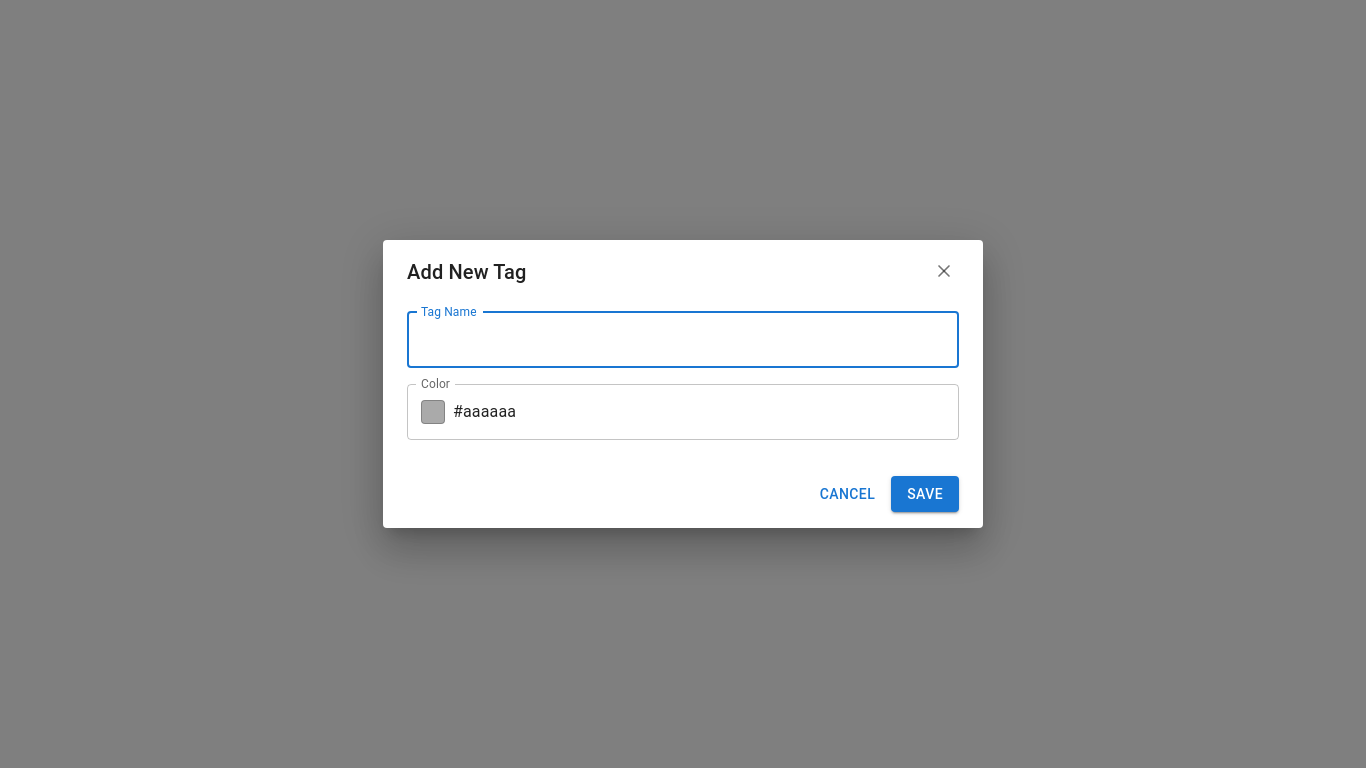
TagFormDialog › hides the name message once a name is typed
This screenshot has width=1366, height=768.
Click the button "Save".
click(925, 494)  # box [891, 476, 959, 512]
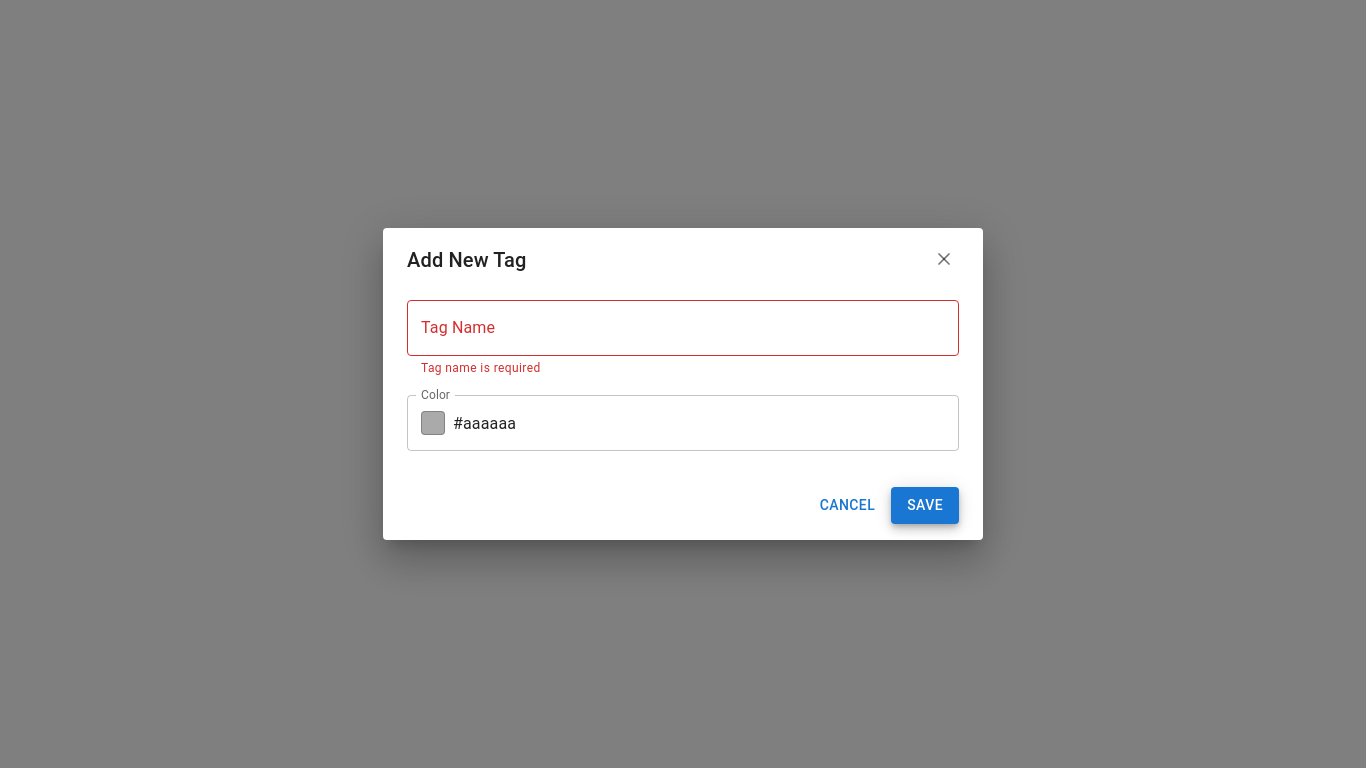
Type "Spicy" into the field labelled "Tag Name".
click(683, 328); type("Spicy")  # box [407, 300, 959, 356]
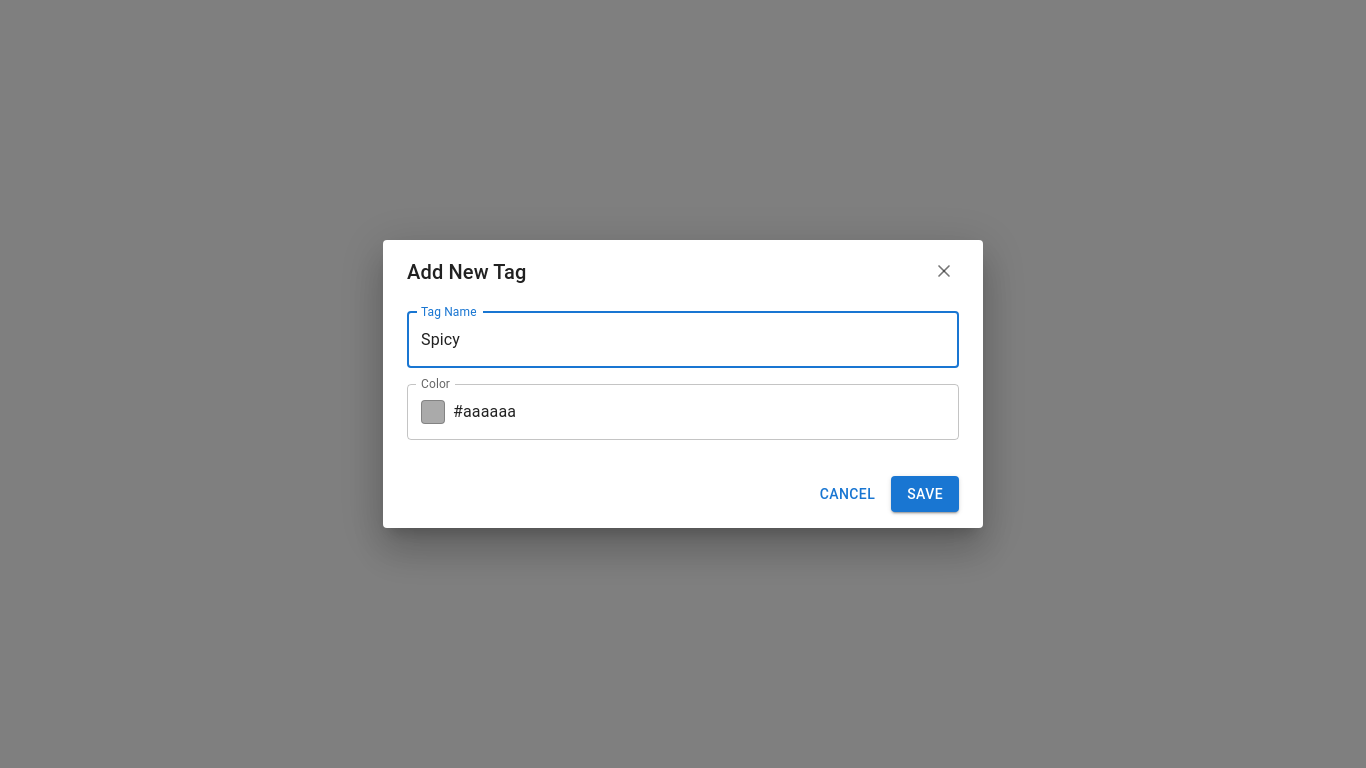
Result: the text "Tag name is required" is gone
